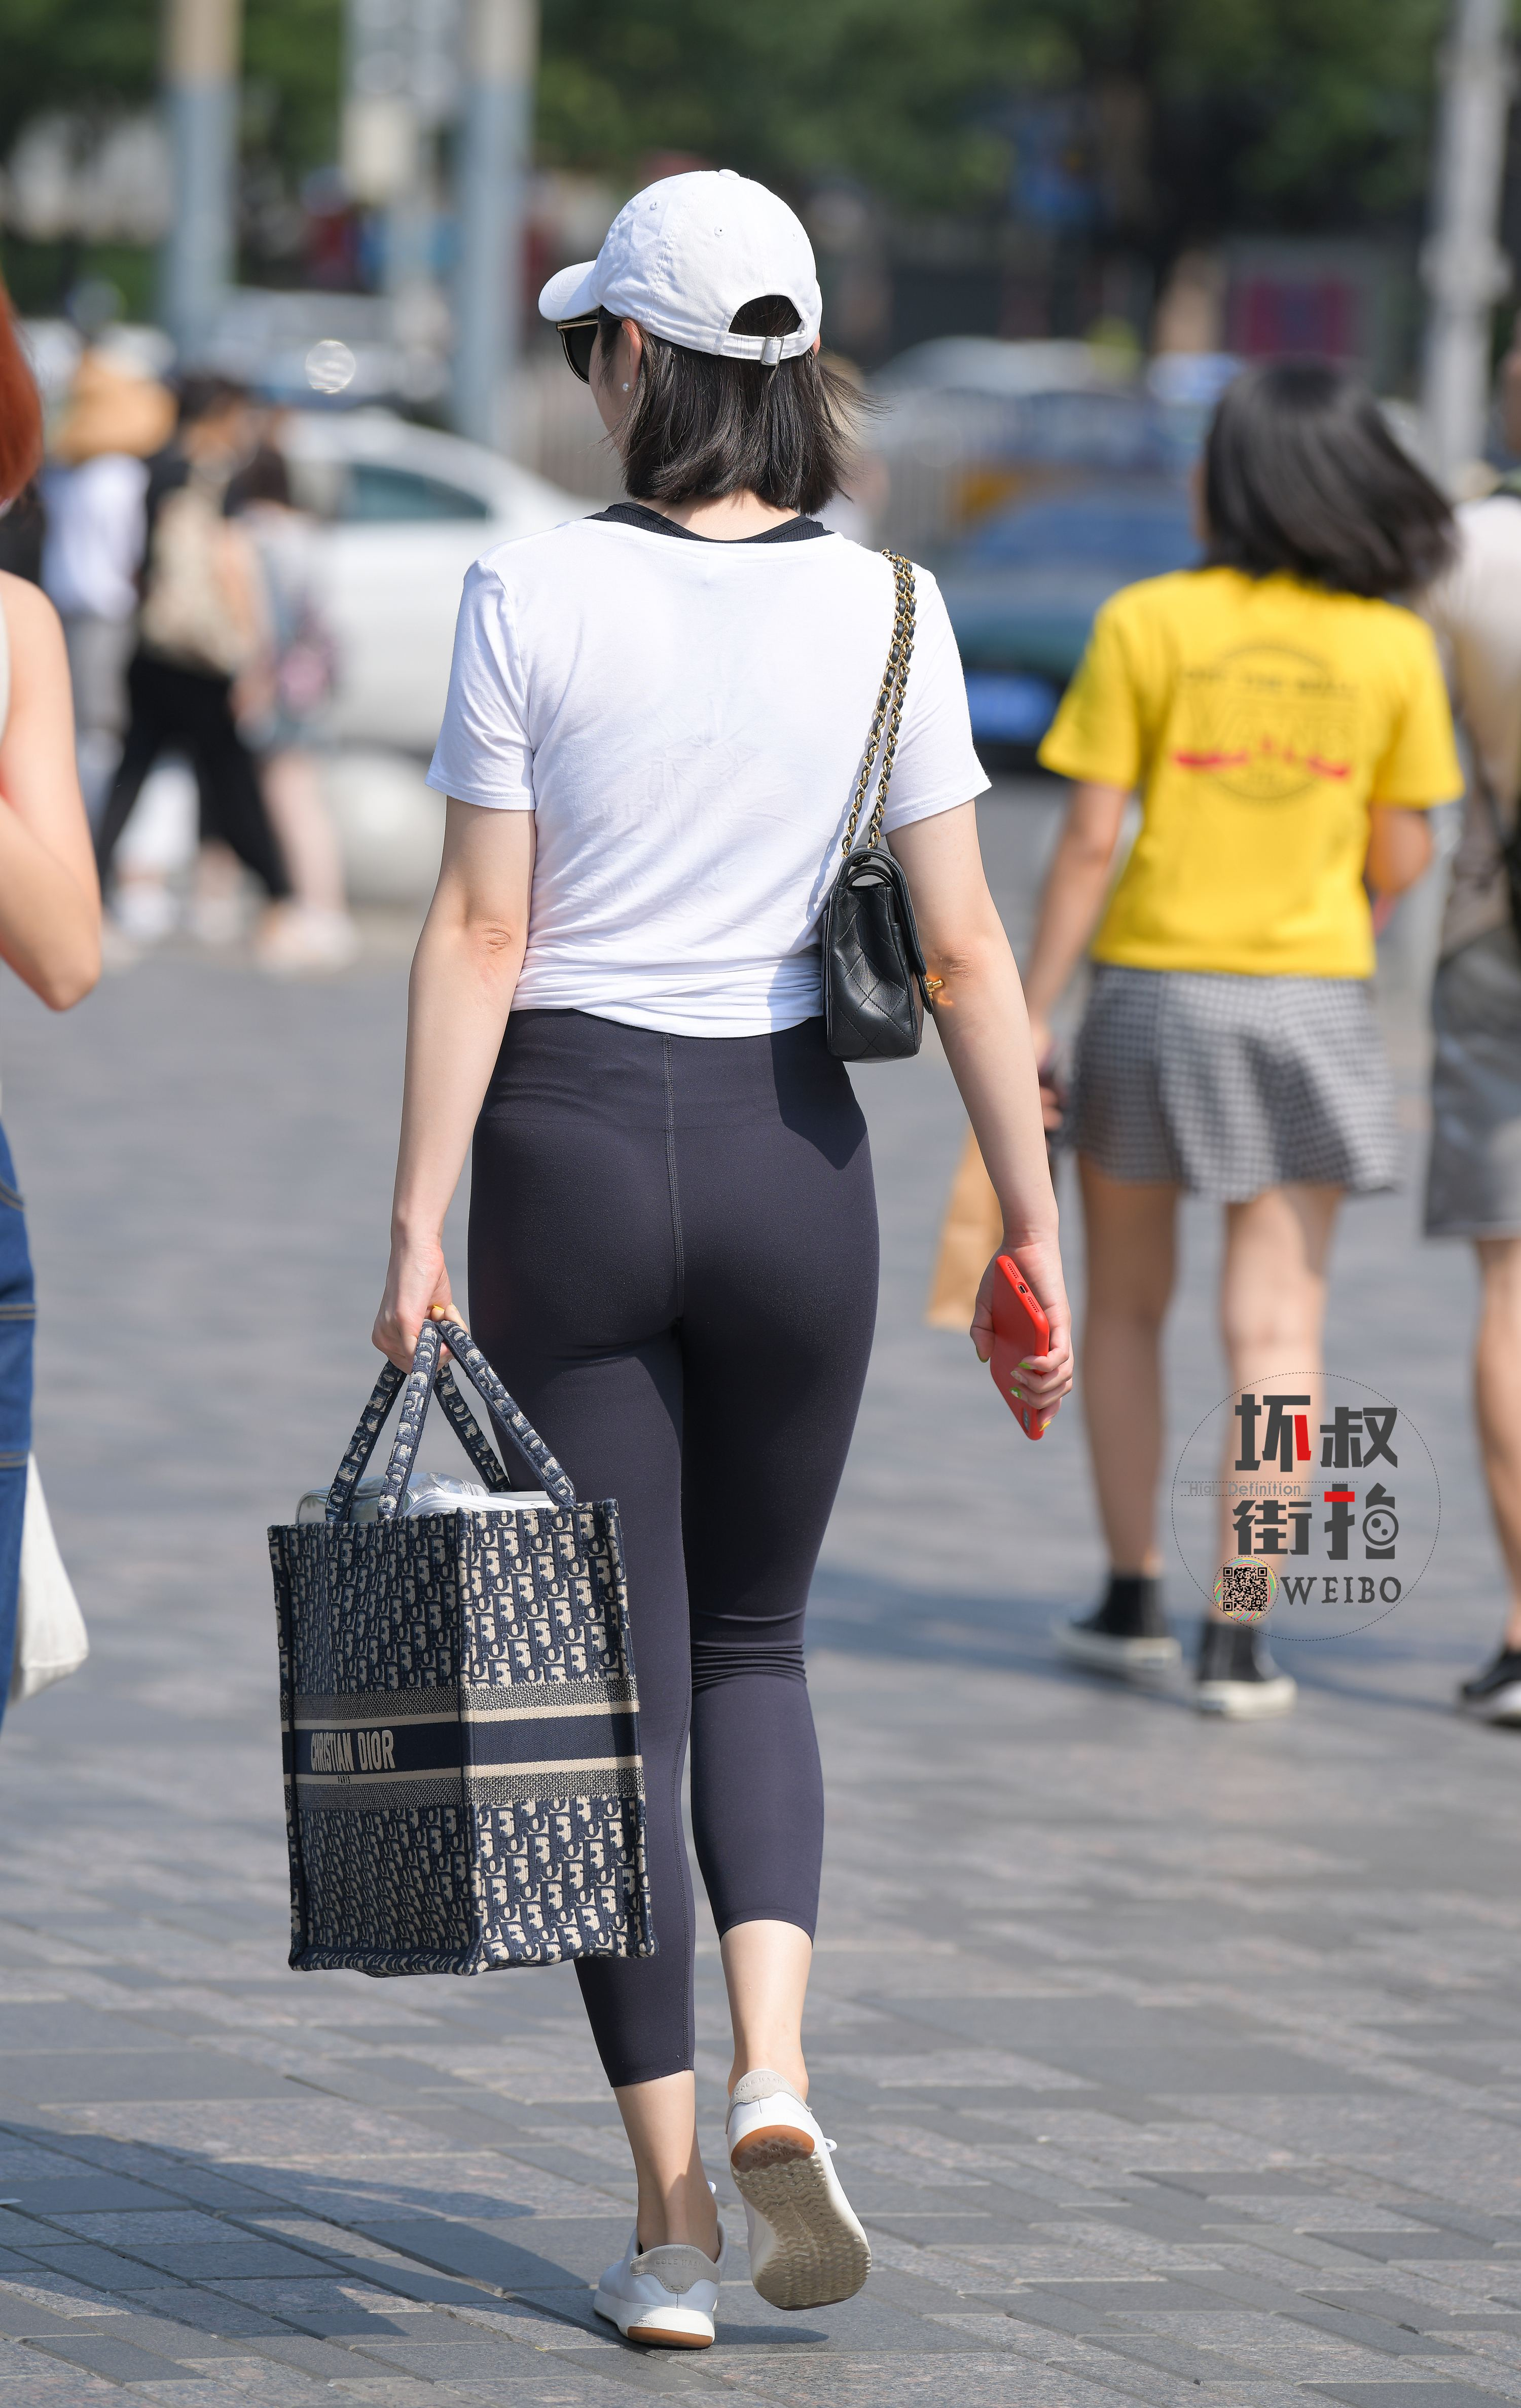person: (279, 144, 981, 2103)
